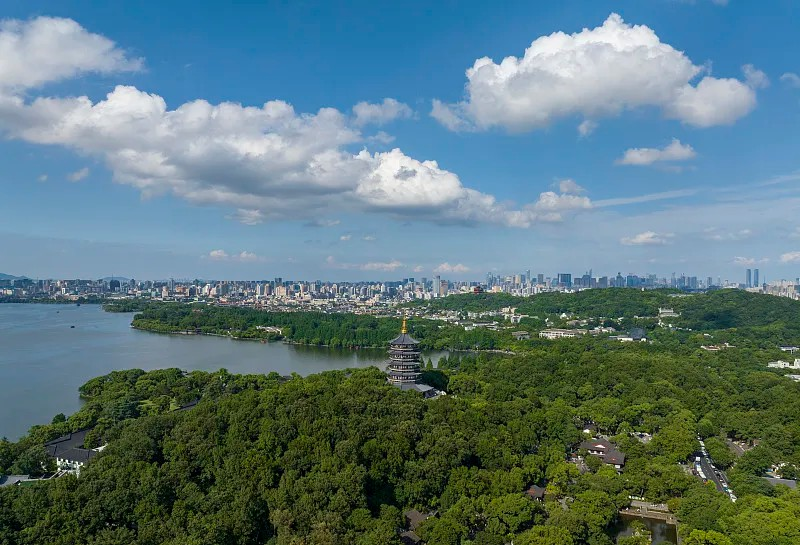Leifeng: (385, 310, 425, 398)
